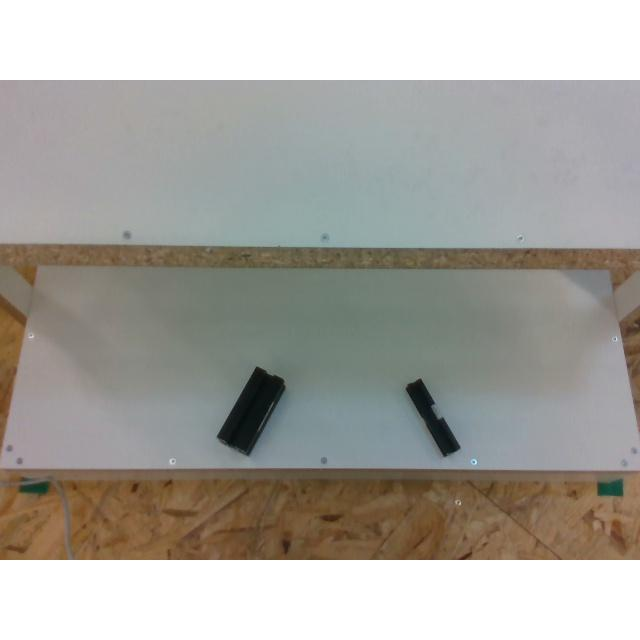F20_20_B: (404, 378, 460, 456)
S40_40_B: (216, 366, 284, 454)
